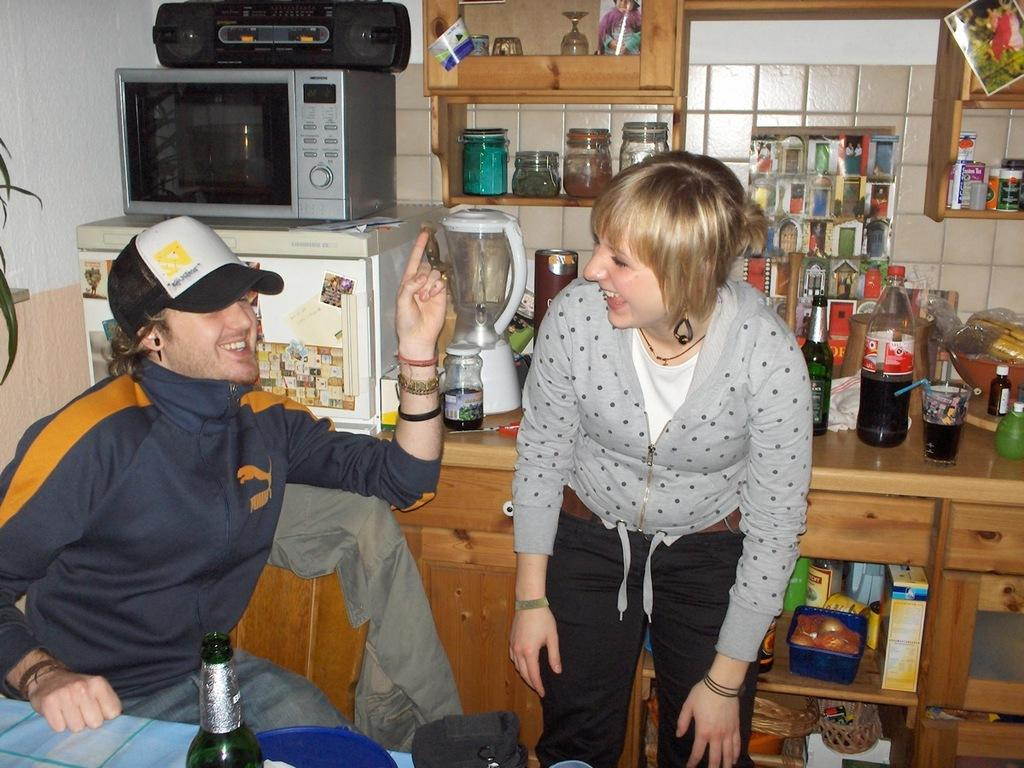Hat: (108, 211, 286, 334)
